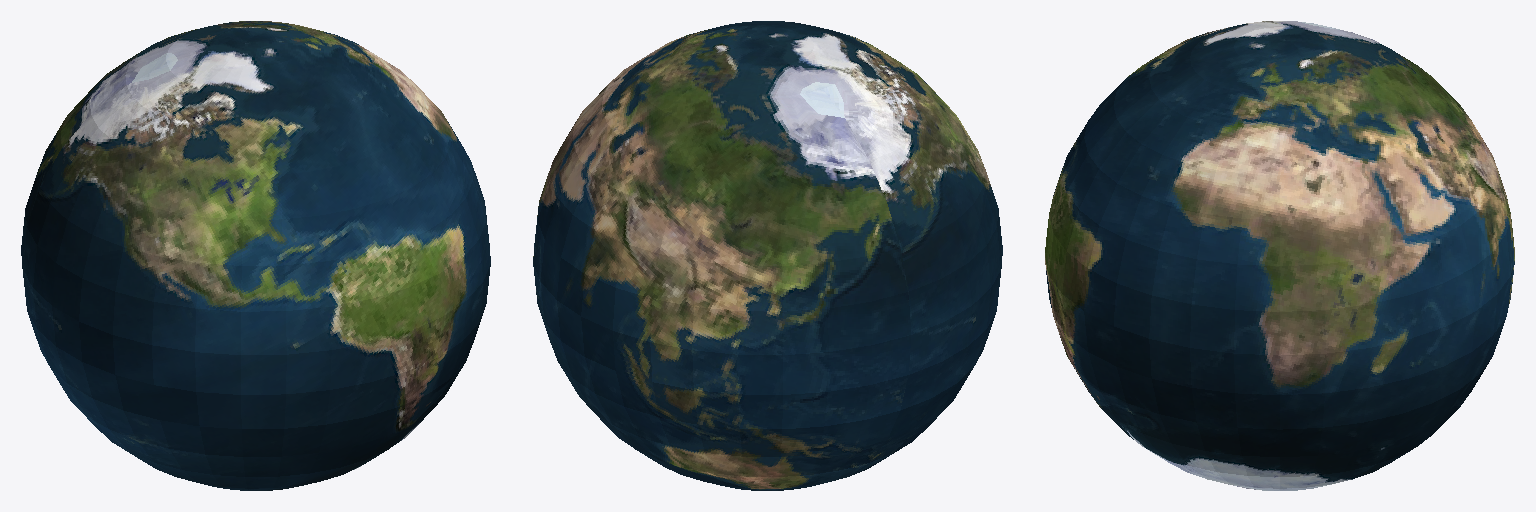
The picture shows the model from 3 angles: view 1: azimuth 30°, elevation 25°; view 2: azimuth 150°, elevation 25°; view 3: azimuth 270°, elevation 25°; orthographic projection.
Visible parts, largest first — view 1: earth_Sphere.001; view 2: earth_Sphere.001; view 3: earth_Sphere.001.
Boxes of the visible parts, box(x1,y1,x2,y2) form: earth_Sphere.001: box(21, 21, 490, 490); earth_Sphere.001: box(533, 21, 1002, 490); earth_Sphere.001: box(1045, 21, 1514, 490).
Size of the model in its own units: 2 by 2 by 2.
Materials: 1 (1 with a texture image).